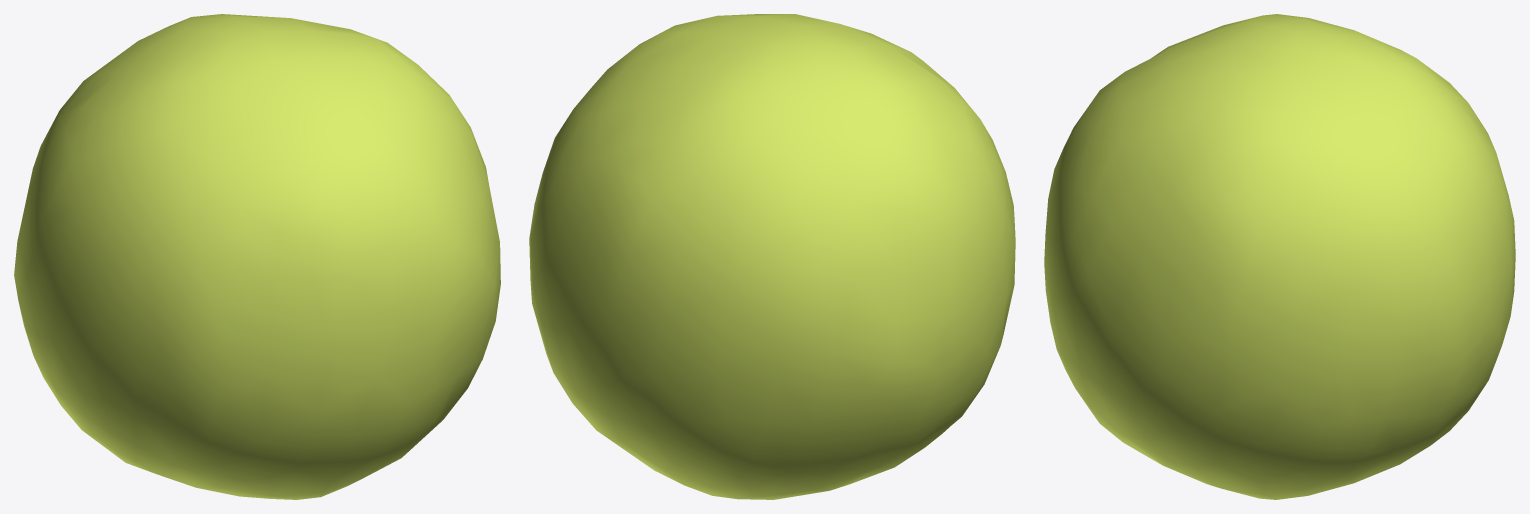
File: Bush_E.fbx
The picture shows the model from 3 angles, left to right: view 1: azimuth 30°, elevation 25°; view 2: azimuth 150°, elevation 25°; view 3: azimuth 270°, elevation 25°; orthographic projection.
Parts seen in each view (by area): view 1: Bush_f_m_01; view 2: Bush_f_m_01; view 3: Bush_f_m_01.
Part boxes in pixels (x1,y1,x2,y2): Bush_f_m_01: (14,14,500,499); Bush_f_m_01: (529,14,1015,499); Bush_f_m_01: (1044,14,1515,499).
Size of the model in its own units: 132 by 133 by 132.
